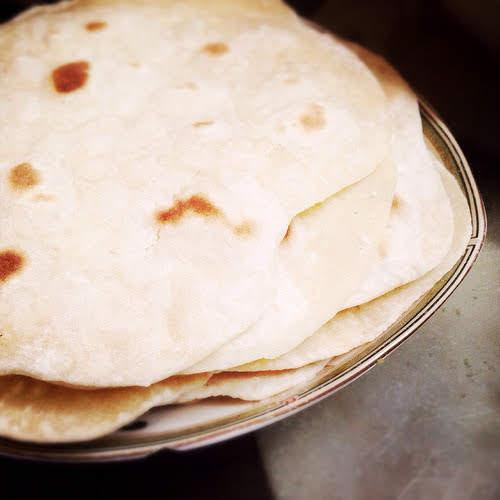chapati: (0, 0, 449, 387)
